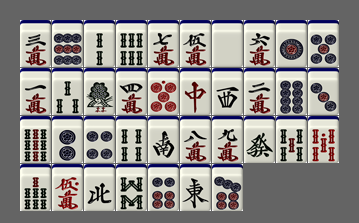0m: (52, 164, 83, 211)
0p: (148, 68, 179, 115)
0s: (308, 116, 339, 163)
1m: (20, 68, 51, 115)
1p: (276, 20, 307, 67)
1s: (84, 68, 115, 115)
1z: (180, 164, 211, 211)
2m: (244, 68, 275, 115)
2p: (52, 116, 83, 163)
2s: (84, 20, 115, 67)
2z: (148, 116, 179, 163)
3m: (20, 20, 51, 67)
3p: (308, 68, 339, 115)
3s: (52, 68, 83, 115)
3z: (212, 68, 243, 115)
4m: (116, 68, 147, 115)
4p: (84, 116, 115, 163)
4s: (116, 116, 147, 163)
4z: (84, 164, 115, 211)
5m: (180, 20, 211, 67)
5p: (308, 20, 339, 67)
5s: (276, 116, 307, 163)
5z: (212, 20, 243, 67)
6m: (244, 20, 275, 67)
6p: (148, 164, 179, 211)
6s: (116, 20, 147, 67)
6z: (244, 116, 275, 163)
7m: (148, 20, 179, 67)
7p: (212, 164, 243, 211)
7s: (20, 164, 51, 211)
7z: (180, 68, 211, 115)
8m: (180, 116, 211, 163)
8p: (276, 68, 307, 115)
8s: (116, 164, 147, 211)
9m: (212, 116, 243, 163)
9p: (52, 20, 83, 67)
9s: (20, 116, 51, 163)
